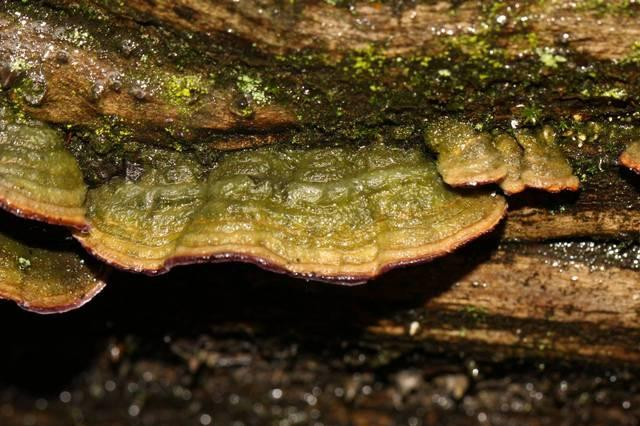poisonous_mushroom: (72, 138, 509, 286)
